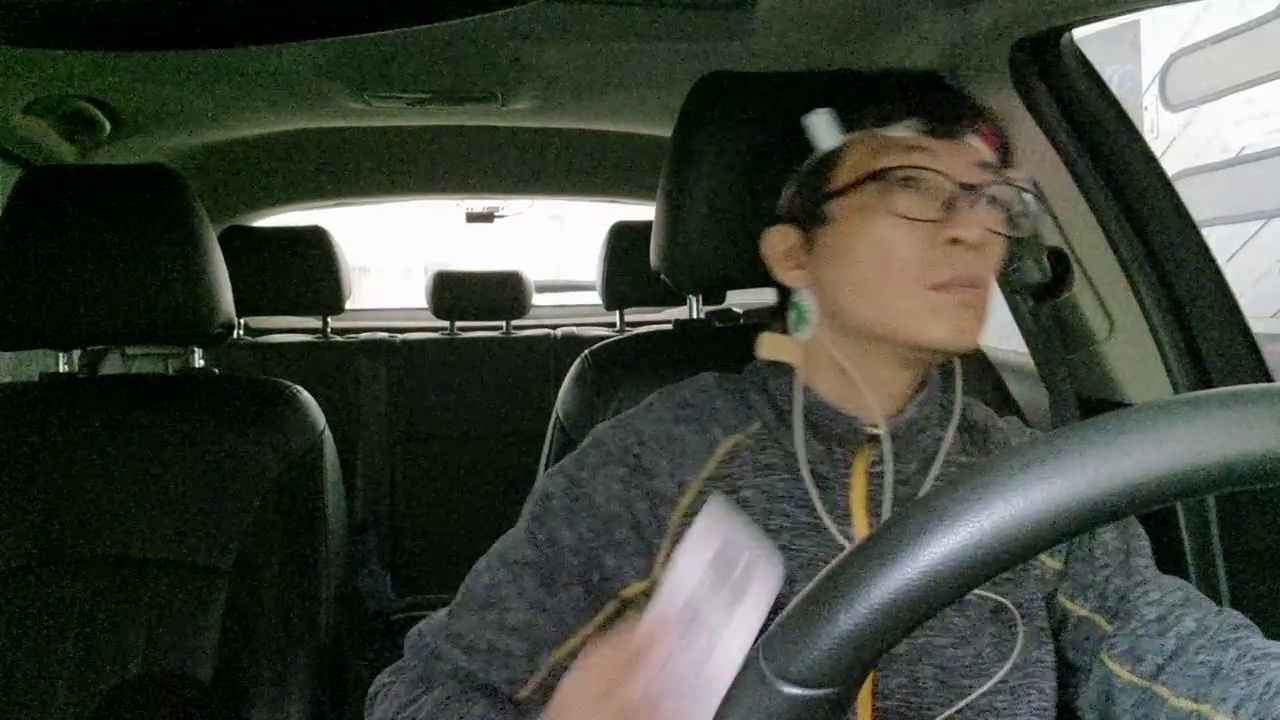phone: (569, 467, 793, 718)
